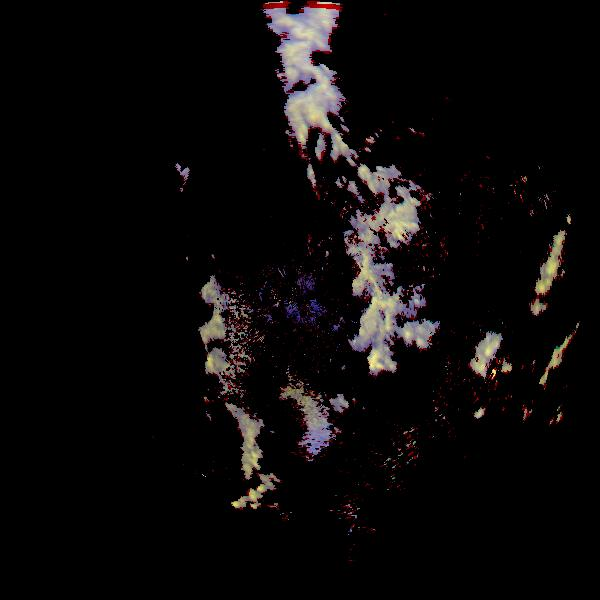roost: (244, 379, 337, 472)
